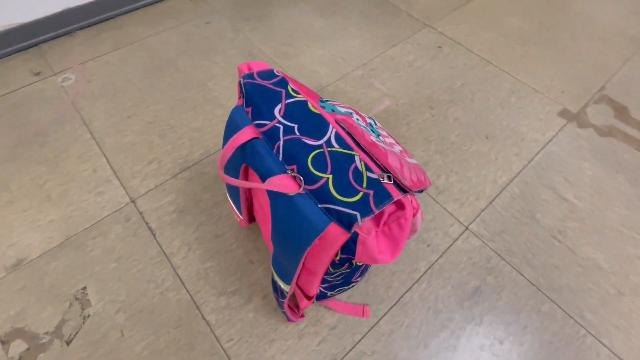Backpack: (212, 53, 436, 332)
